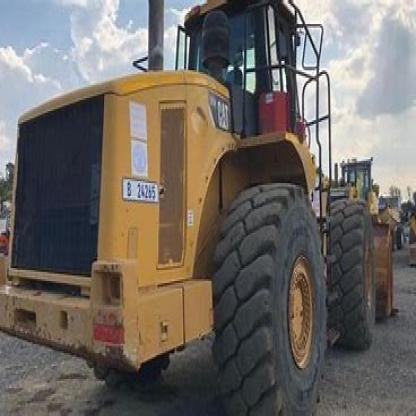bull_dozer/loader/grader: (4, 4, 402, 414)
